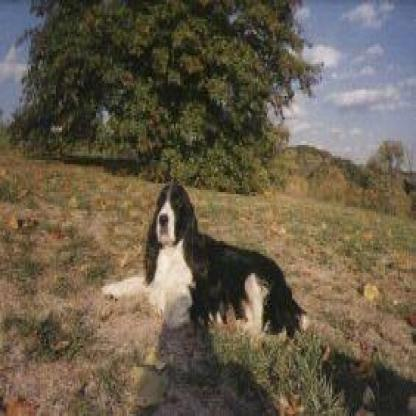English_springer: (96, 177, 314, 337)
